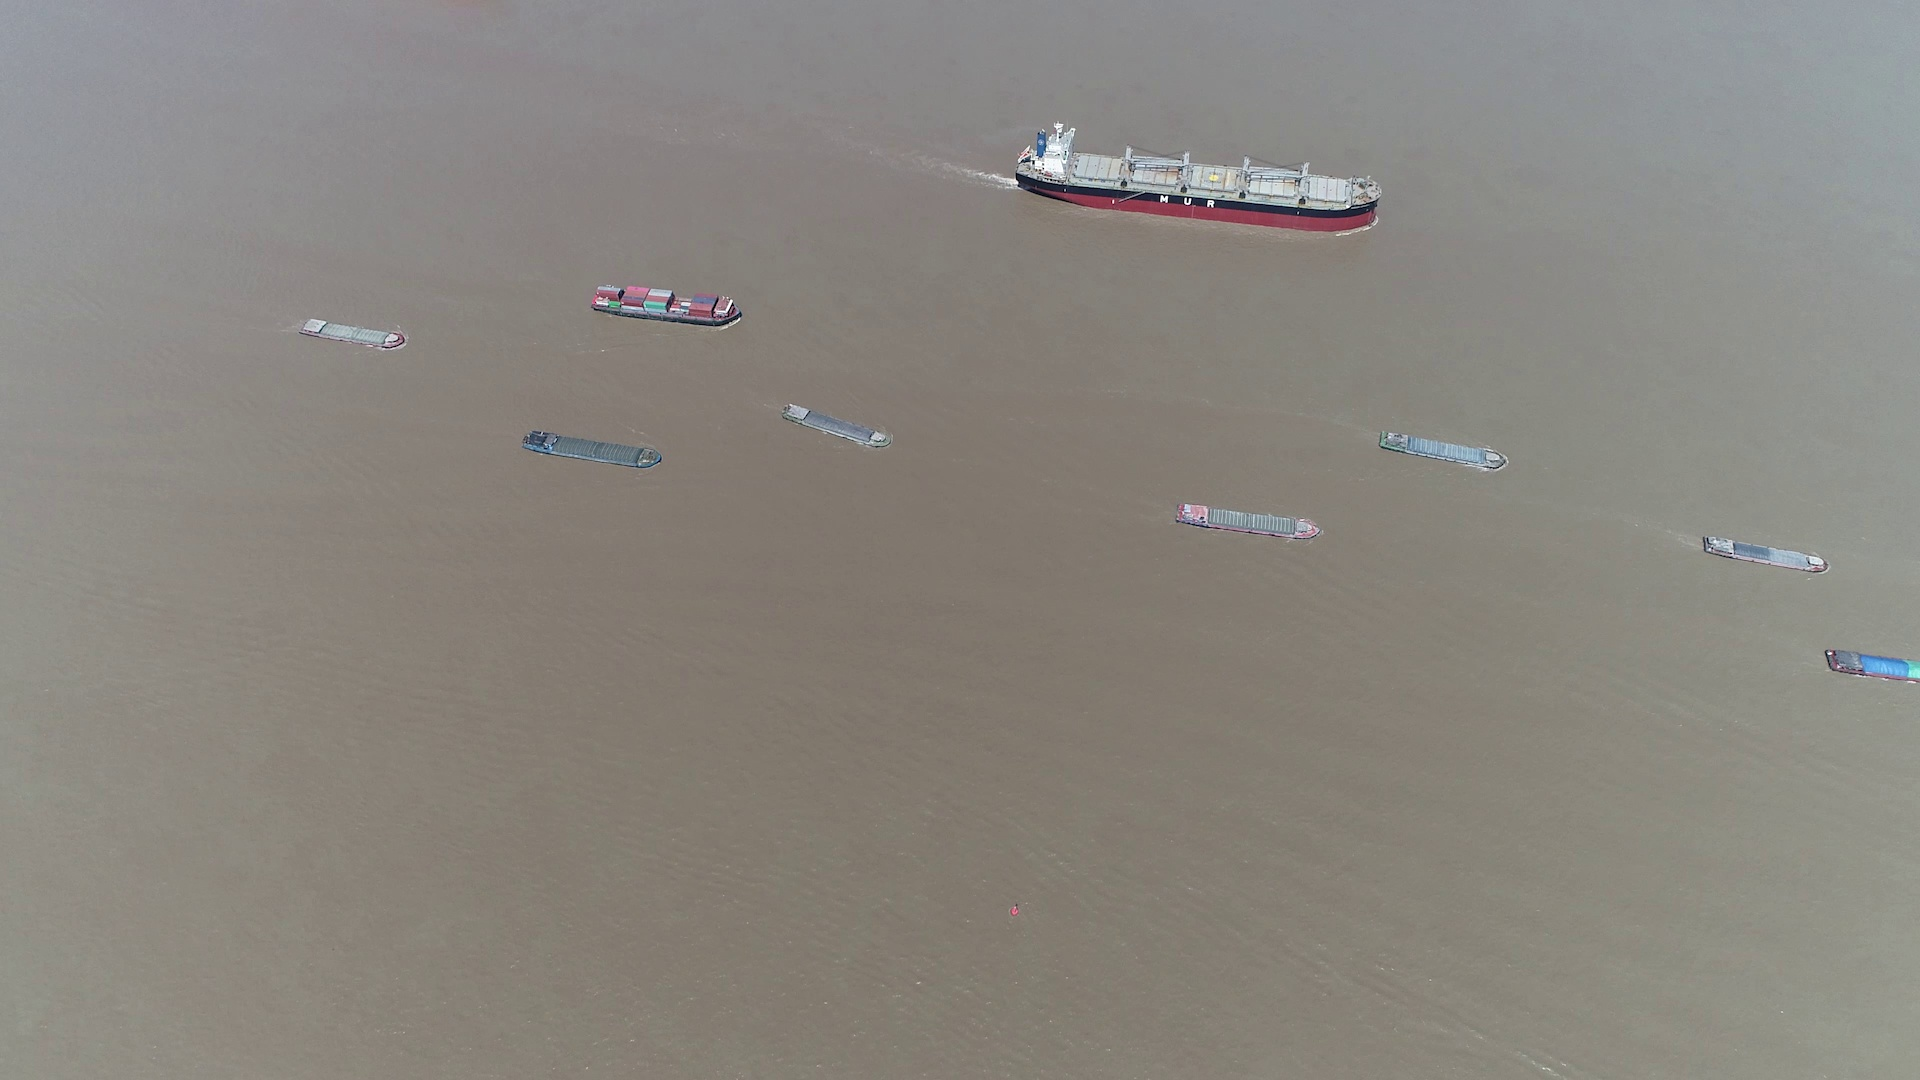ship: (1015, 127, 1377, 229), (588, 284, 742, 326), (1174, 501, 1321, 541), (521, 431, 663, 472), (1381, 431, 1509, 472), (781, 402, 893, 448), (1701, 535, 1829, 574), (301, 316, 407, 349), (1826, 649, 1920, 684)
